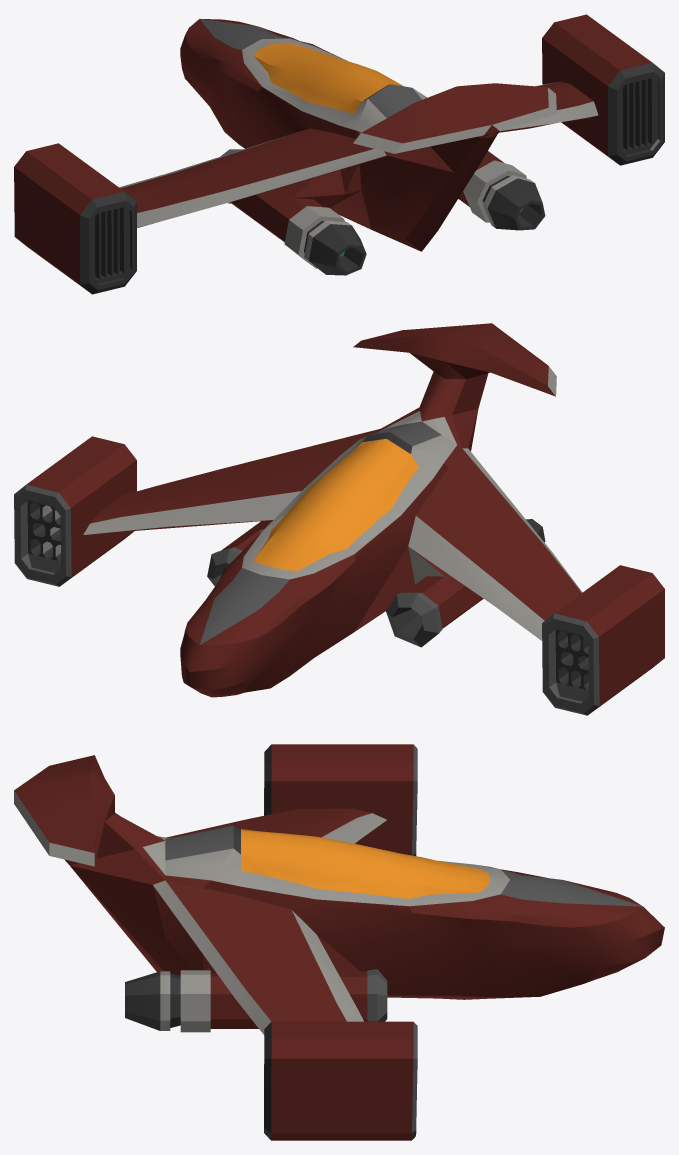
The model's file is Basic-Enemy-Missile-Ship-v01.glb.
3 renders of one model, top to bottom at view 1: azimuth 30°, elevation 25°; view 2: azimuth 150°, elevation 25°; view 3: azimuth 270°, elevation 25°, orthographic. The views are drawn at different scales.
Parts seen in each view (by area): view 1: Ship; view 2: Ship; view 3: Ship.
Part boxes in pixels (box(x1,y1,x2,y2)): Ship: box(14, 14, 664, 294); Ship: box(14, 323, 664, 715); Ship: box(14, 744, 664, 1140).
Bounding box in the file's own units: 14.4 × 4.88 × 12.9.
